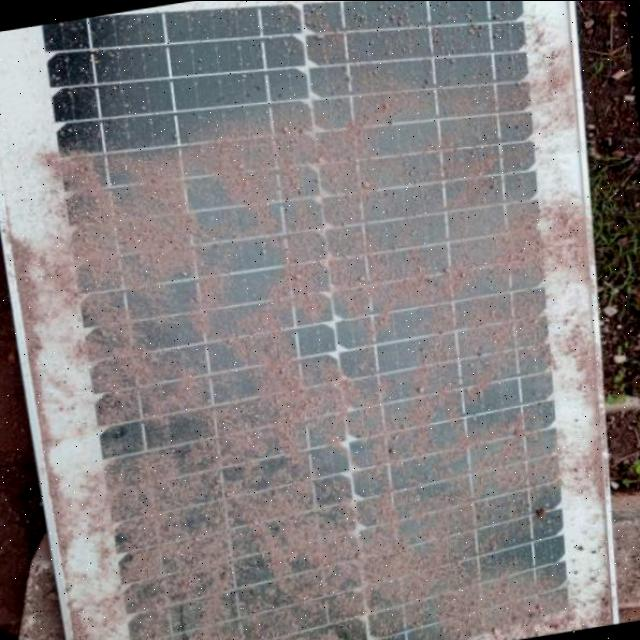Anomaly Solar Panel: (6, 0, 590, 640)
Surface Contaminant: (22, 0, 622, 640)
